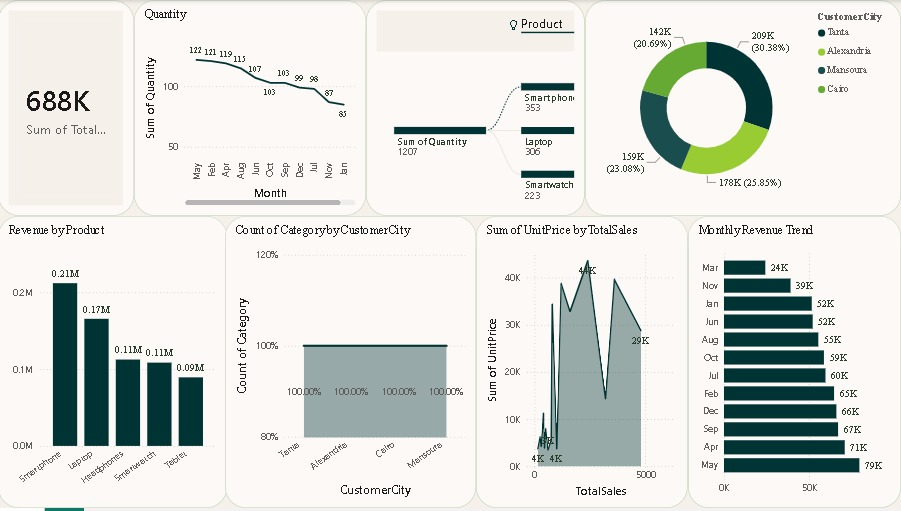

Layout of this report page (visuals, bound fields, positions):
{"tool":"powerbi","page":{"name":"Page 1","canvas":[1280,720],"ordinal":0},"visuals":[{"type":"clusteredColumnChart","title":" Revenue by Product","fields":{"Category":["sales_data.Product"],"Y":["Sum(sales_data.TotalSales)"]},"box":[0,306.1,324.6,413.9],"z":0},{"type":"barChart","title":" Monthly Revenue Trend","fields":{"Y":["Sum(sales_data.TotalSales)"],"Category":["sales_data.Month"]},"box":[978,306.1,301.9,413.9],"z":1000},{"type":"cardVisual","fields":{"Data":["Sum(sales_data.TotalSales)"]},"box":[0,0,192.8,306.1],"z":2000},{"type":"donutChart","title":"City","fields":{"Category":["sales_data.CustomerCity"],"Y":["Sum(sales_data.TotalSales)"]},"box":[832,0,447.9,306.1],"z":3000},{"type":"lineChart","title":" Quantity","fields":{"Category":["sales_data.Month"],"Y":["Sum(sales_data.Quantity)"]},"box":[192.8,0,328.8,306.1],"z":3001},{"type":"decompositionTreeVisual","fields":{"Analyze":["Sum(sales_data.Quantity)"],"ExplainBy":["sales_data.Product"]},"box":[521.6,0,310.4,306.1],"z":3002},{"type":"hundredPercentStackedAreaChart","fields":{"Category":["sales_data.CustomerCity"],"Y":["CountNonNull(sales_data.Category)"]},"box":[321.7,306.1,355.7,413.9],"z":3003},{"type":"areaChart","fields":{"Category":["sales_data.TotalSales"],"Y":["Sum(sales_data.UnitPrice)"]},"box":[677.5,306.1,300.5,413.9],"z":3004}]}

Visuals, with their boxes in screenshot pixels (x1, y1, x2, y2), scaled from the page's 1280x720 canvas onto the 901x511 screenshot:
" Revenue by Product" clusteredColumnChart: [left=0, top=217, right=228, bottom=510]
" Monthly Revenue Trend" barChart: [left=688, top=217, right=900, bottom=510]
cardVisual - Sum(sales_data.TotalSales): [left=0, top=0, right=136, bottom=217]
"City" donutChart: [left=586, top=0, right=900, bottom=217]
" Quantity" lineChart: [left=136, top=0, right=367, bottom=217]
decompositionTreeVisual - Sum(sales_data.Quantity) x sales_data.Product: [left=367, top=0, right=586, bottom=217]
hundredPercentStackedAreaChart - sales_data.CustomerCity x CountNonNull(sales_data.Category): [left=226, top=217, right=477, bottom=510]
areaChart - sales_data.TotalSales x Sum(sales_data.UnitPrice): [left=477, top=217, right=688, bottom=510]
